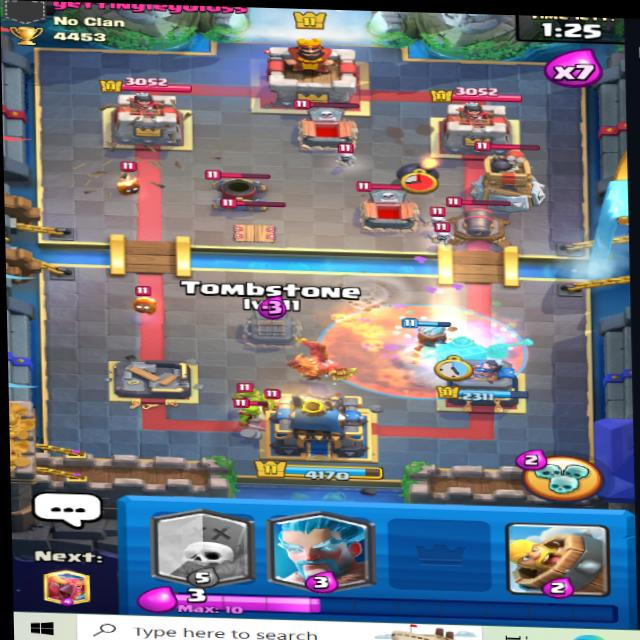Bombtower: (474, 140, 551, 207)
Cannon: (440, 195, 526, 247)
Firespirit: (105, 160, 151, 202), (126, 287, 163, 316)
Goblin: (232, 394, 271, 429), (234, 380, 269, 405)
Mortar: (202, 168, 281, 208)
Skeleton: (423, 204, 454, 226), (430, 224, 457, 245), (334, 142, 356, 164)
Teslahidden: (209, 195, 295, 248)
Tombstone: (351, 177, 422, 239), (286, 97, 363, 151)
